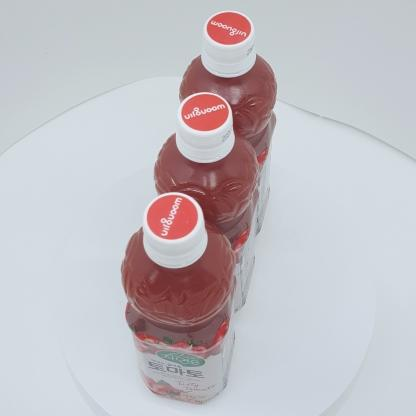--------500ML: (120, 191, 238, 405)
